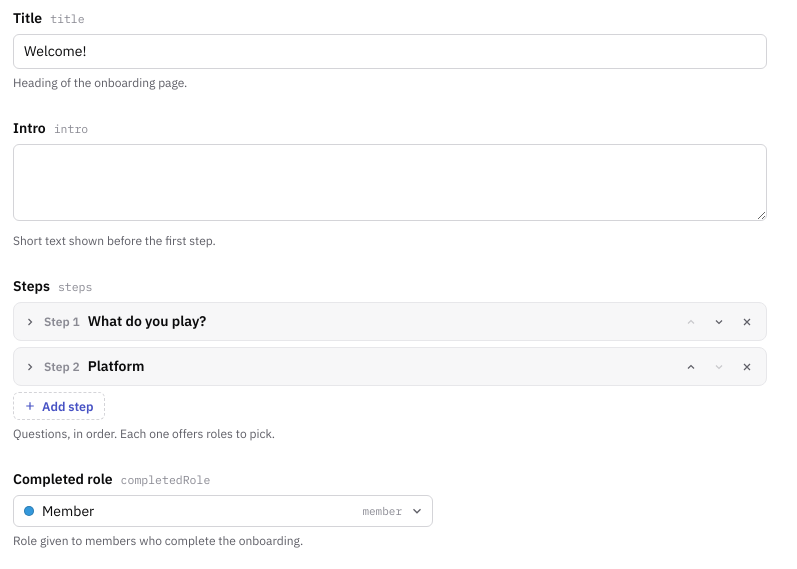
Test: rendering the onboarding schema (arrays of objects) › steps[].options[] can be expanded, added, reordered and removed
The image size is (797, 569).
Expected: the button "Step 2 Platform" is shown, [18,351,672,382]
Click the button "Step 1 What do you play?": point(147, 321) [18,306,672,337]
(page scrolled)
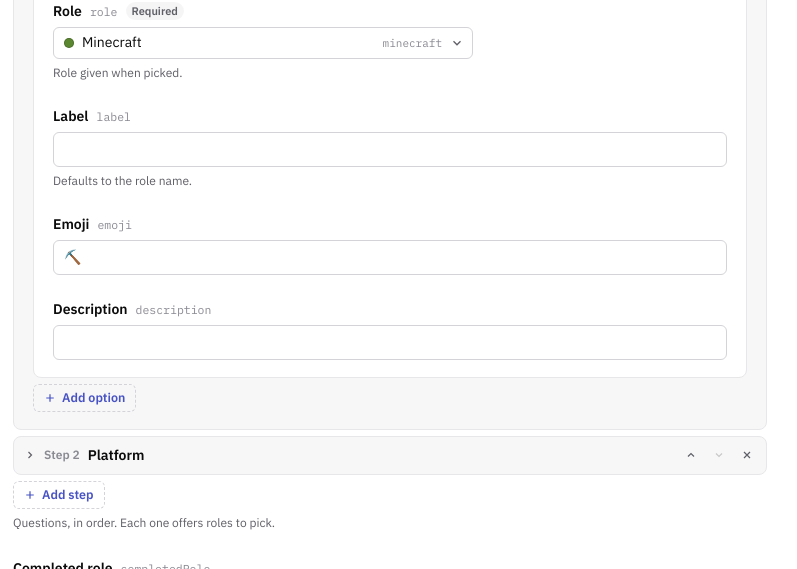
Expected: the dropdown named "Role" shows "Minecraft", [53,27,473,59]
Click the button "Add option": point(85, 398) [33,384,136,412]
(page scrolled)
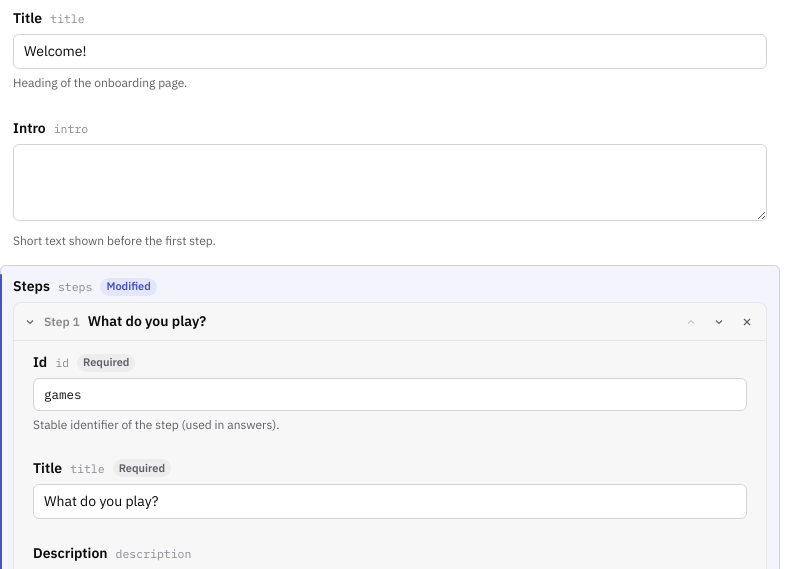
Click the button named "Move step 1 down": point(719, 322) [706,308,732,334]
(page scrolled)
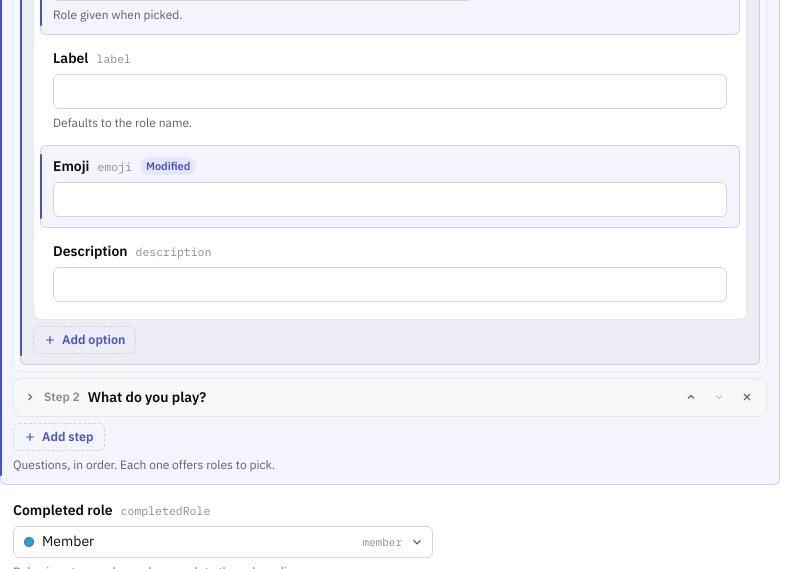
Click the button named "Remove step 2": point(747, 397) [734,384,760,410]
(page scrolled)
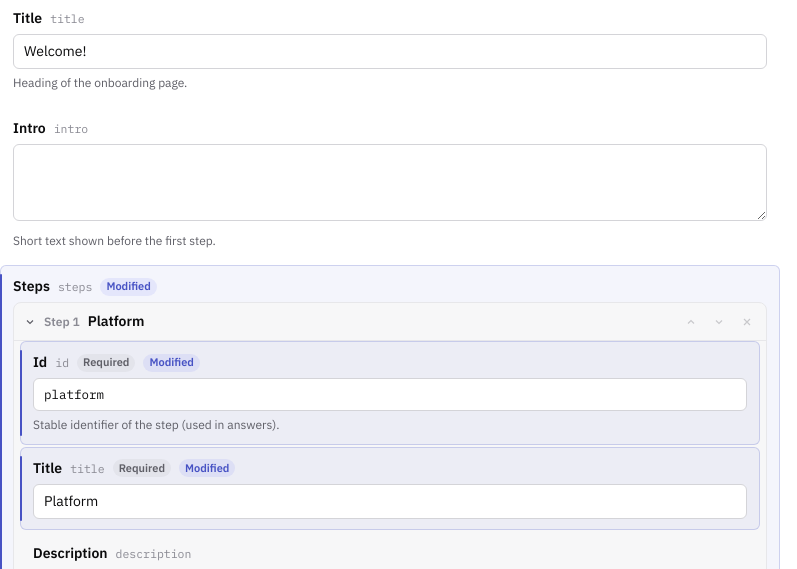
Expected: the button named "Remove step 1" is disabled, [734,308,760,334]
